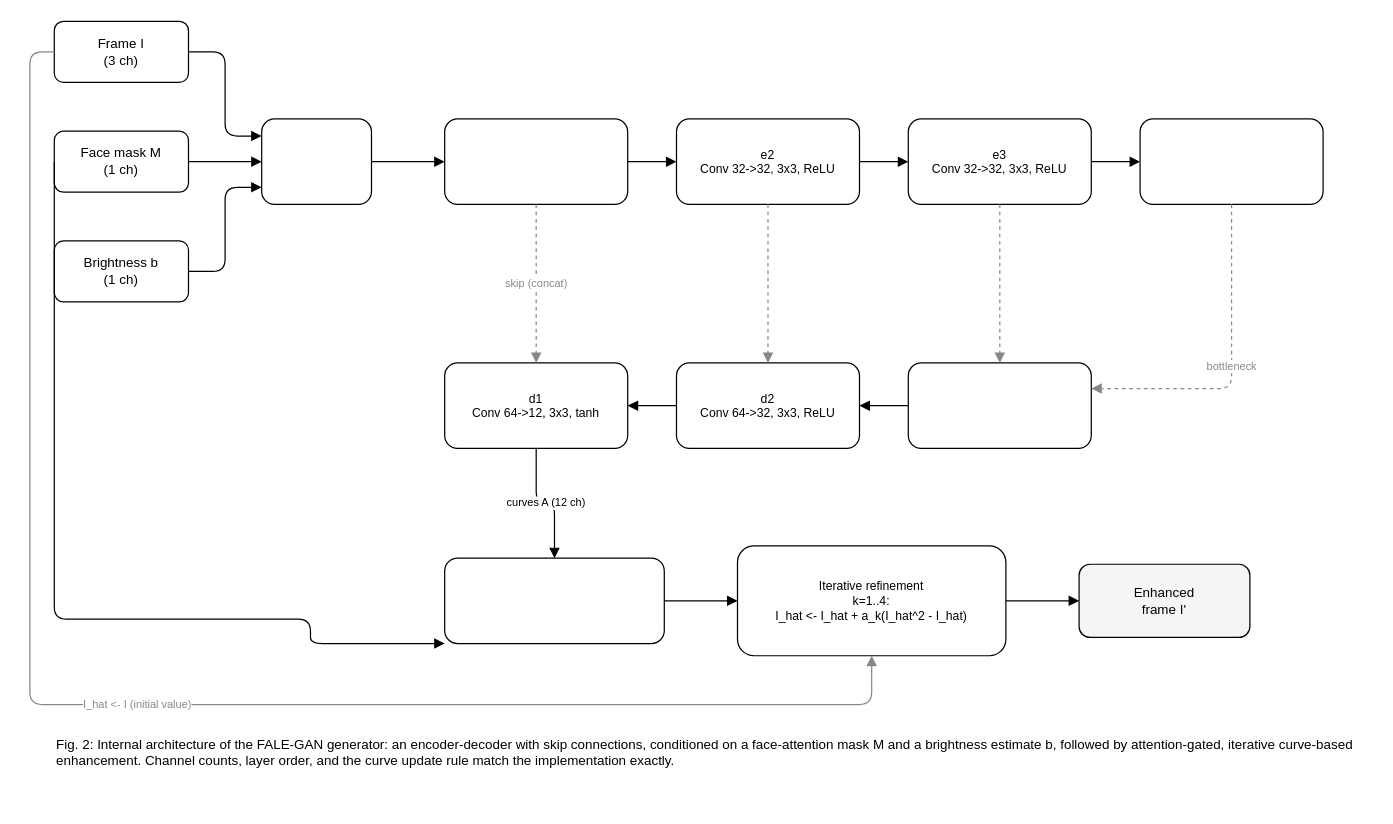
The diagram is 1393 pixels wide and 824 high, and some of its shapes have lost their labels. Each missing label, with the centre of its shape:
"Attention gate A' = A(1+alpha*M)" belongs at point 553,600.
"Concat (5 ch)" belongs at point 315,161.
"d3 Conv 64->32, 3x3, ReLU" belongs at point 999,405.
"e1 Conv 5->32, 3x3, ReLU" belongs at point 535,161.
"e4 Conv 32->32, 3x3, ReLU" belongs at point 1231,161.
